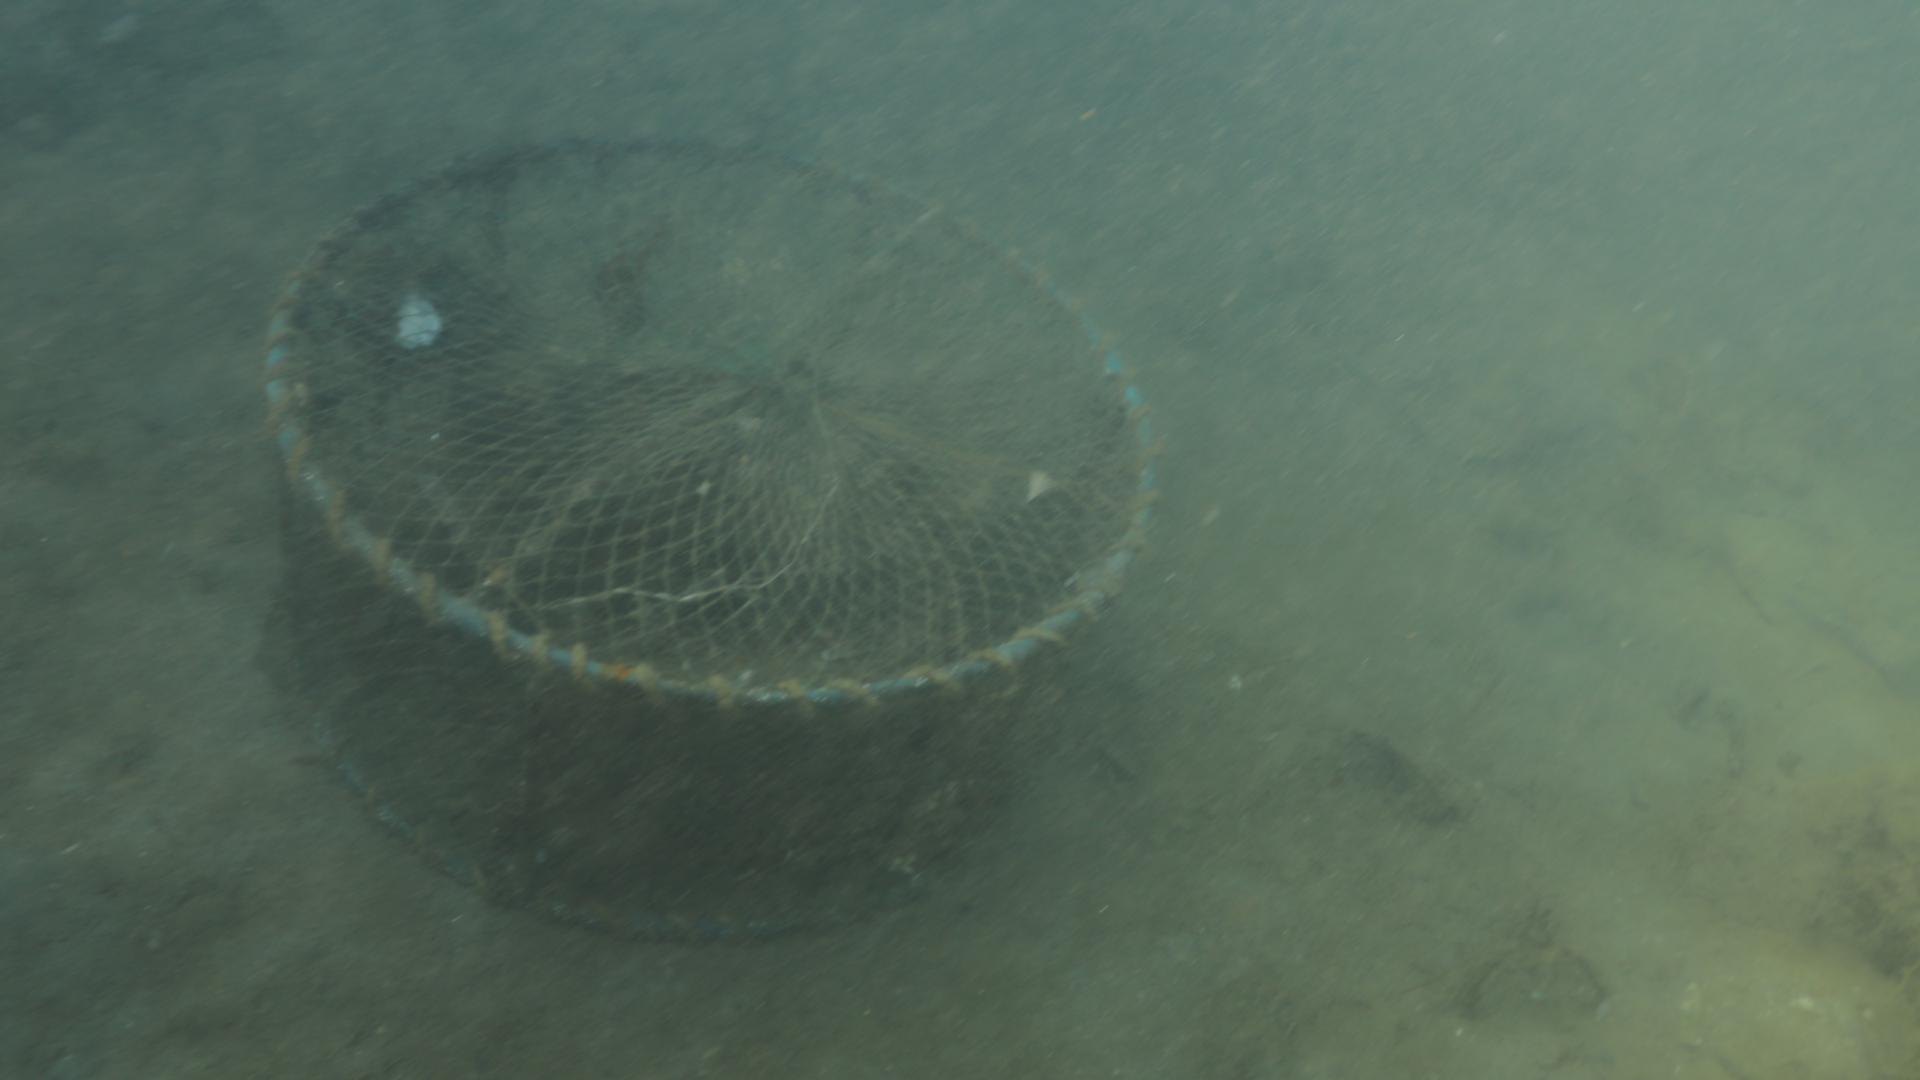circular fish trap: (260, 128, 1160, 945)
